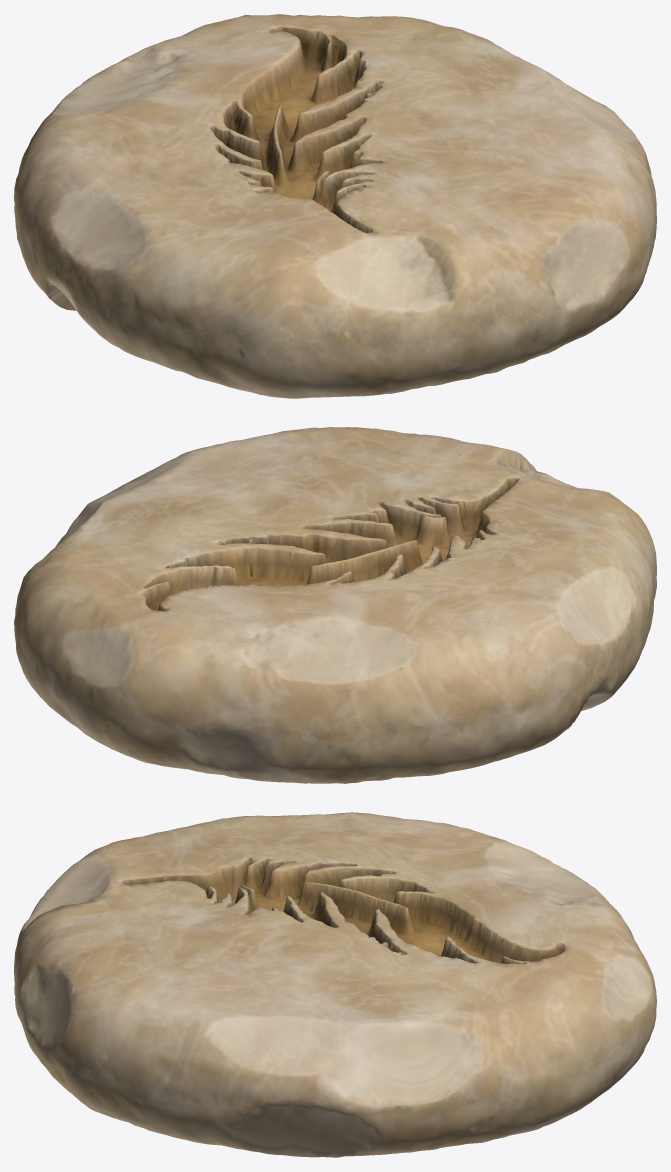
The model's file is opmet-coin_quill_header.glb.
3 renders of one model, top to bottom at view 1: azimuth 30°, elevation 25°; view 2: azimuth 150°, elevation 25°; view 3: azimuth 270°, elevation 25°, orthographic. The views are drawn at different scales.
Parts seen in each view (by area): view 1: alabaster; view 2: alabaster; view 3: alabaster.
Boxes of the visible parts, x1=… form: alabaster: x1=14, y1=14, x2=656, y2=398; alabaster: x1=14, y1=427, x2=656, y2=783; alabaster: x1=14, y1=812, x2=656, y2=1157.
Bounding box in the file's own units: 1.94 × 0.5179 × 2.05.
Materials: 1 (1 with a texture image).
